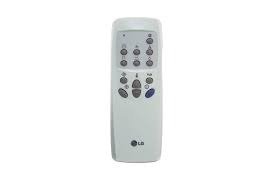remote control: (111, 19, 165, 169)
